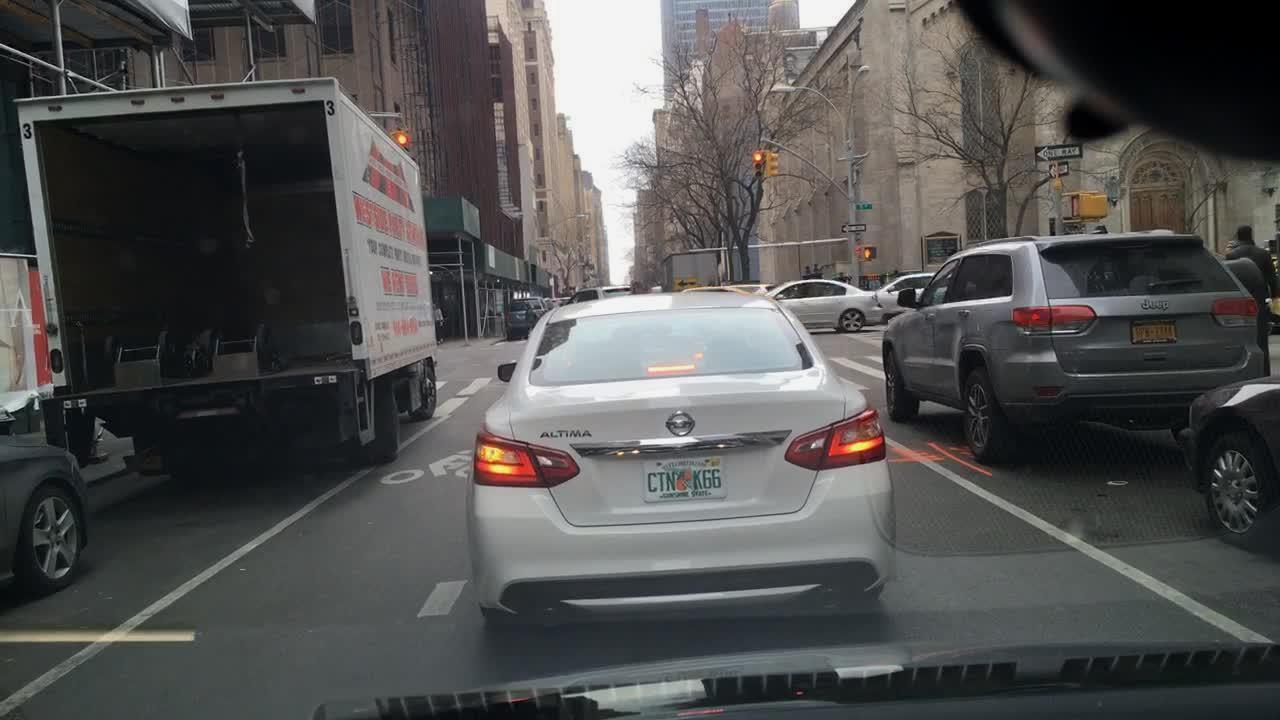Nissan: (654, 394, 707, 457)
jeep: (1132, 291, 1181, 316)
